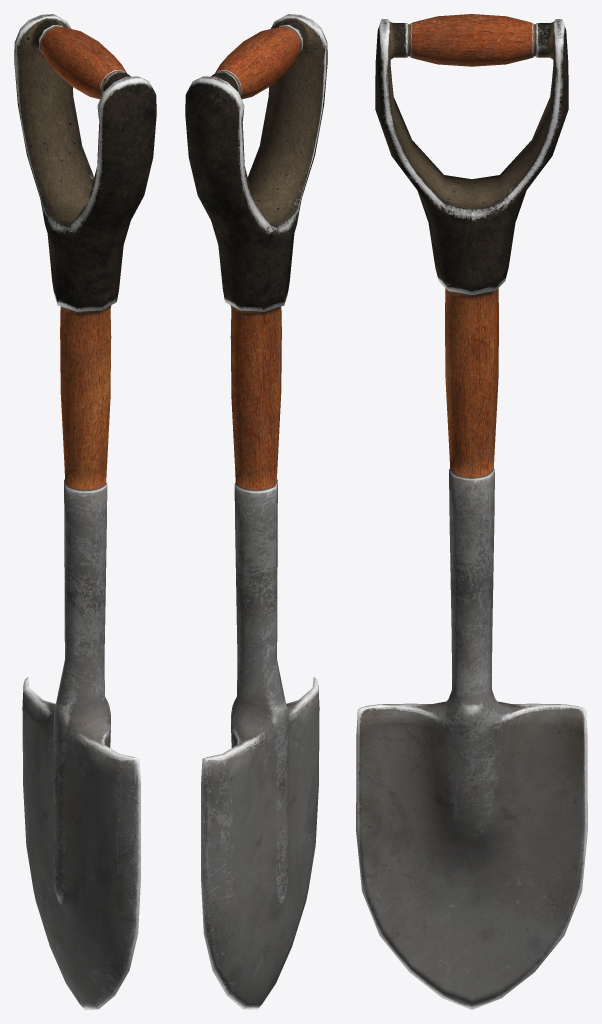
Rendered from shovel.gltf.
3 views of the same model, side by side, from view 1: azimuth 30°, elevation 25°; view 2: azimuth 150°, elevation 25°; view 3: azimuth 270°, elevation 25° (orthographic). The views are drawn at different scales.
Visible parts, largest first — view 1: Sekop Pasir; view 2: Sekop Pasir; view 3: Sekop Pasir.
Boxes of the visible parts, x1=… form: Sekop Pasir: x1=14, y1=14, x2=156, y2=1009; Sekop Pasir: x1=185, y1=14, x2=327, y2=1009; Sekop Pasir: x1=356, y1=14, x2=587, y2=1009.
Bounding box in the file's own units: 0.3618 × 5.05 × 1.07.
1 material, 1 textured.
